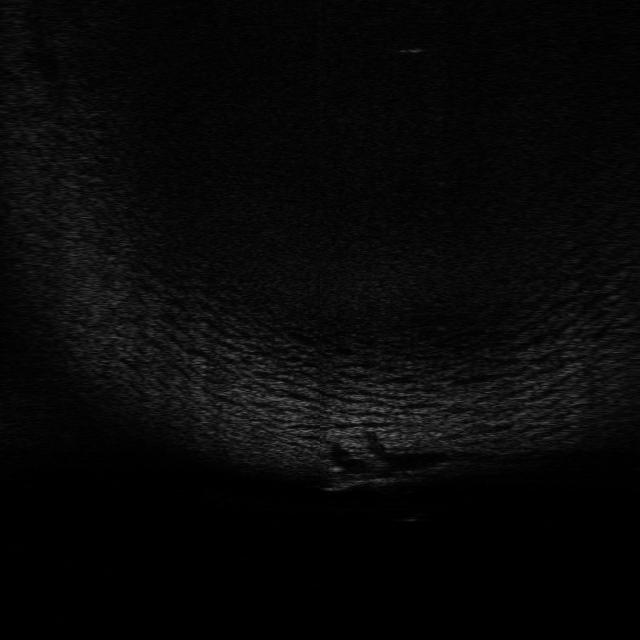plane: (320, 463, 414, 494)
